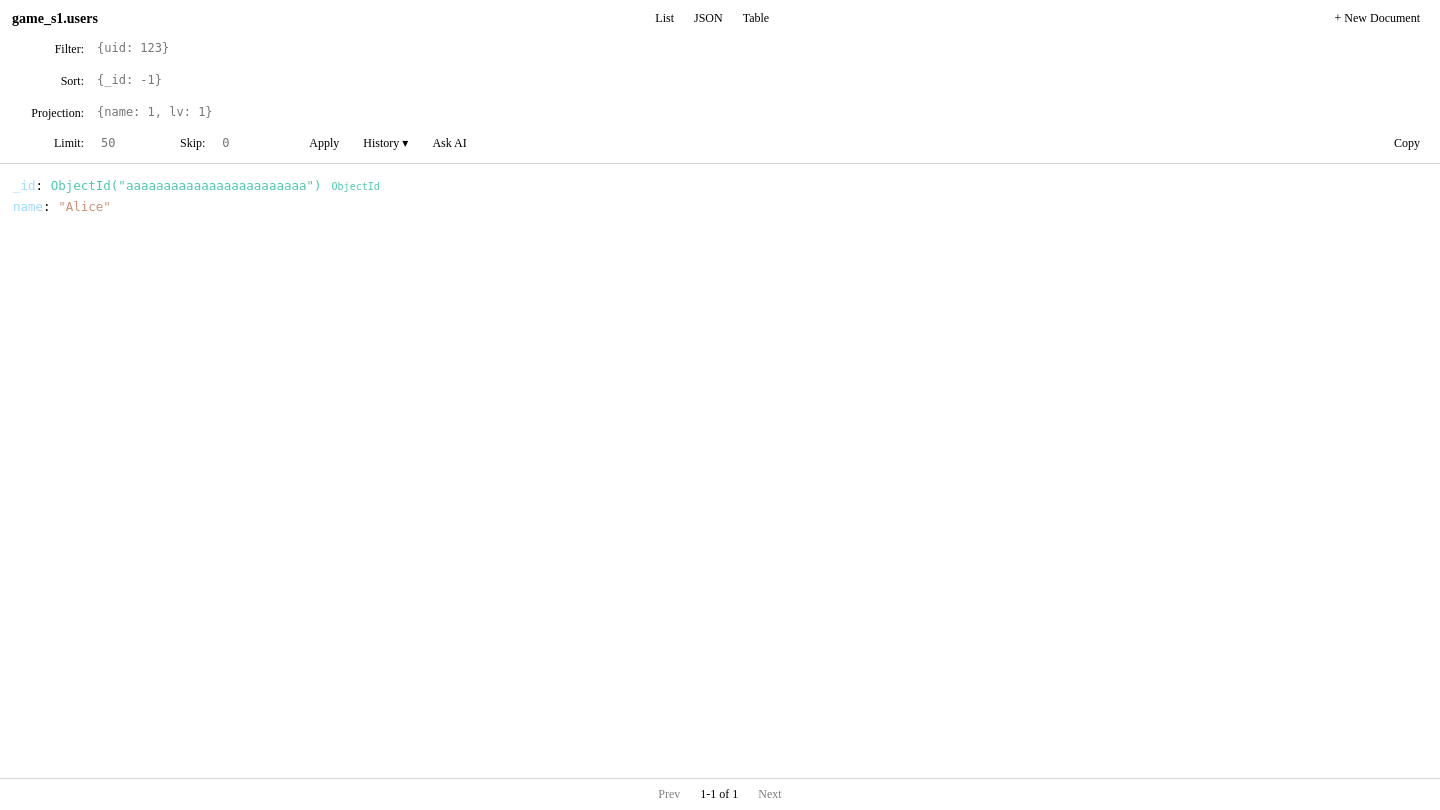
Test case: MongoDocumentTable - History 下拉 › 列出传入的历史, 点一条回填三个输入框, 下拉关闭
Click the button with aria-label "Query history" at (386, 144), box 355,134 -> 416,153
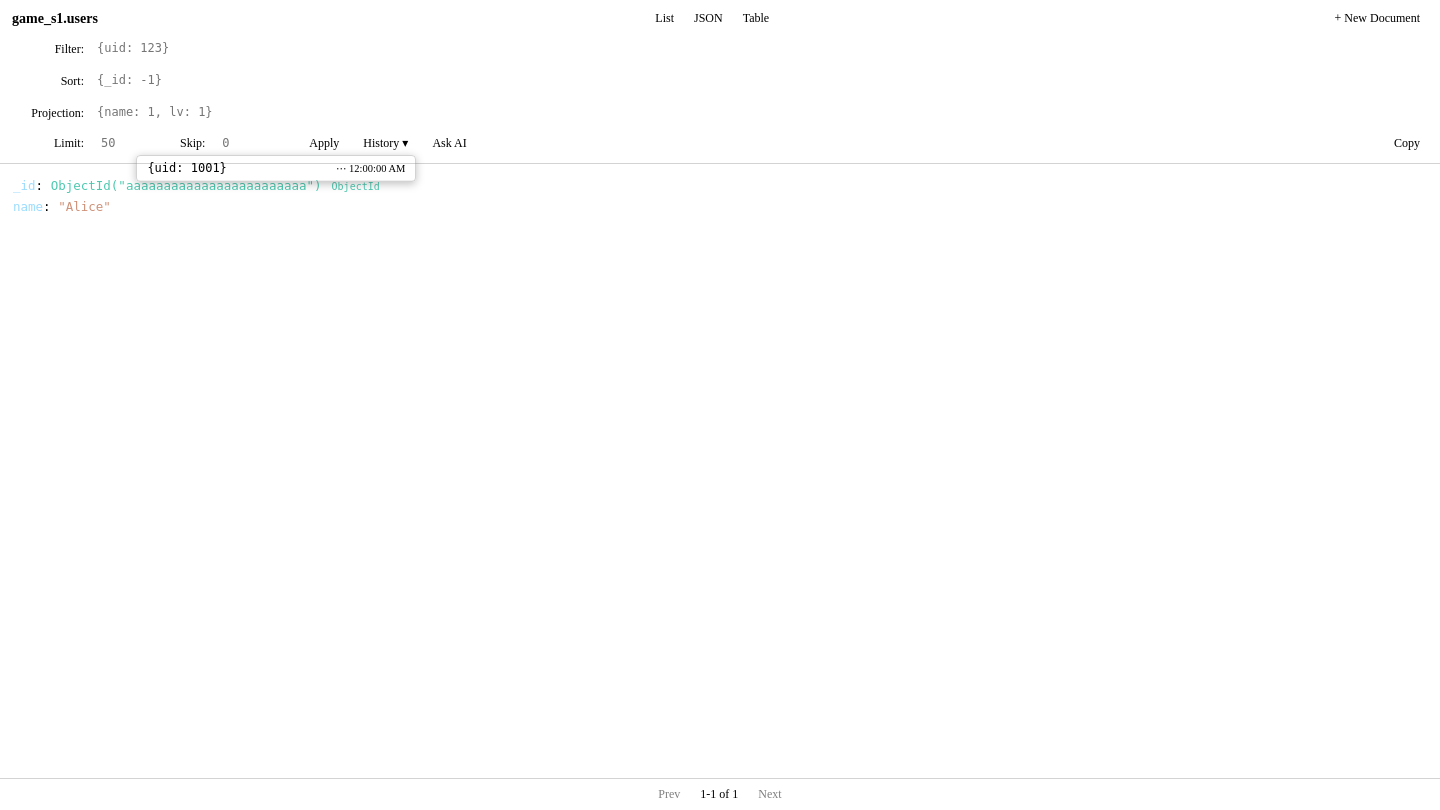
Click the text "{uid: 1001}" at (187, 168), box 147,161 -> 227,175
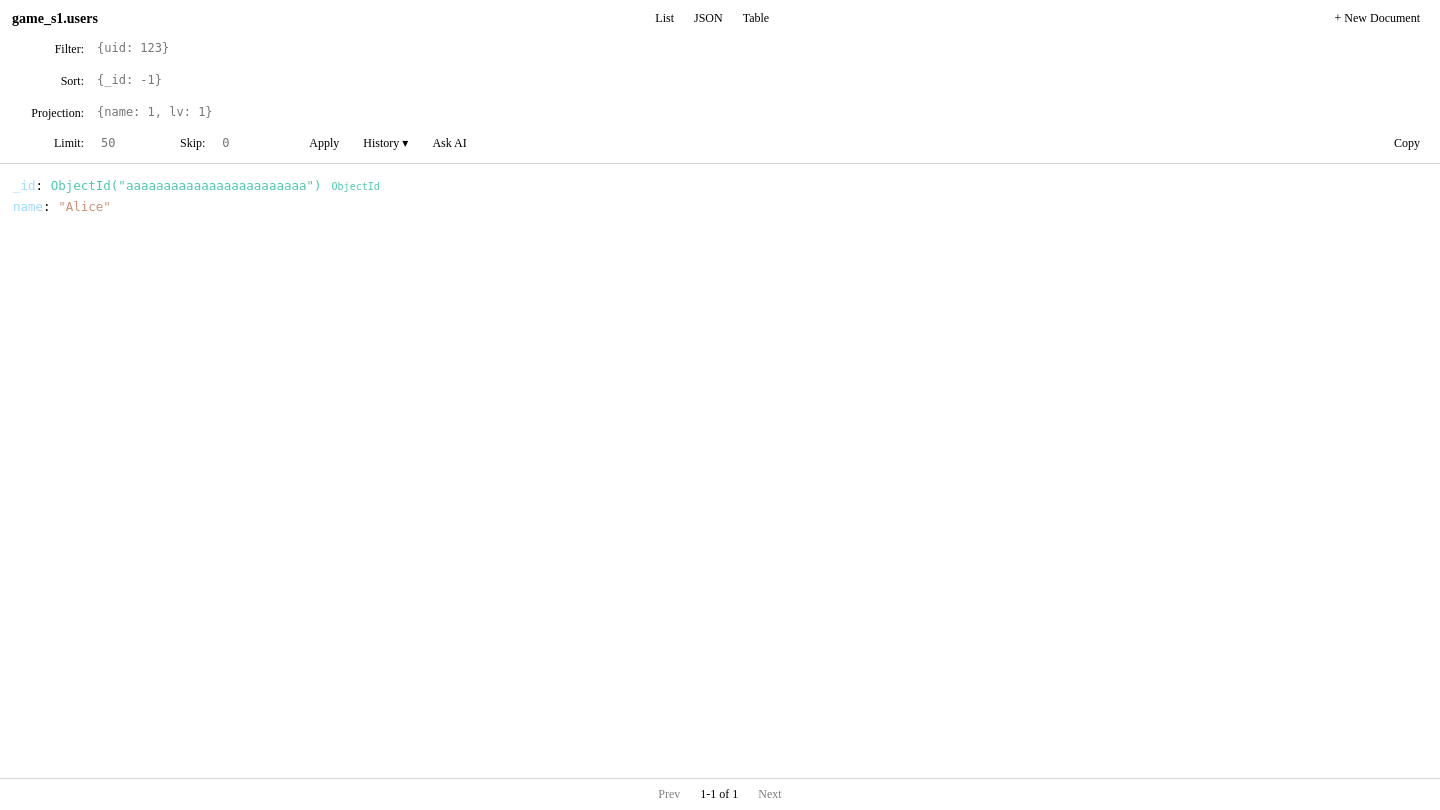
Now the element with class "mongo-filter-history-dropdown" is gone
